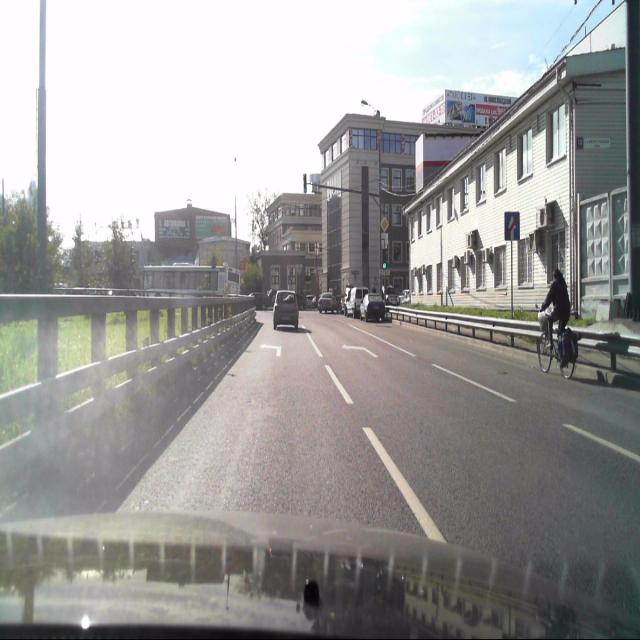road sign: (504, 211, 522, 241)
